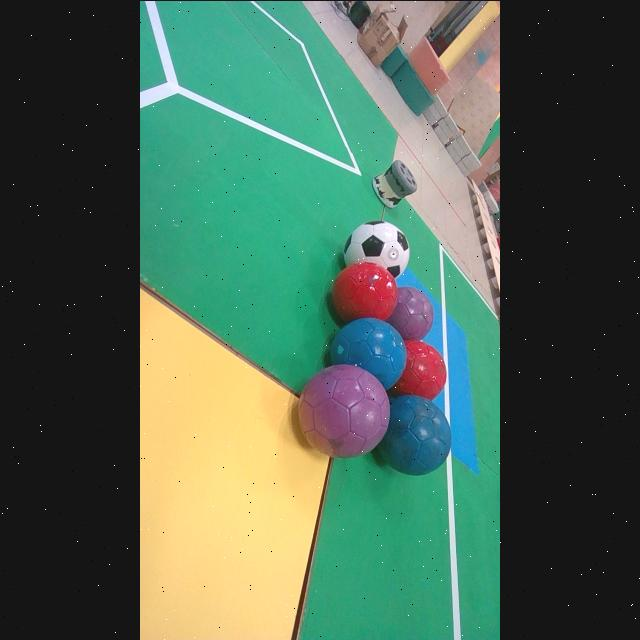B: (378, 395, 451, 475), (331, 318, 406, 389)
P: (298, 362, 390, 458), (387, 285, 434, 339)
R: (332, 261, 398, 321), (389, 339, 446, 399)
